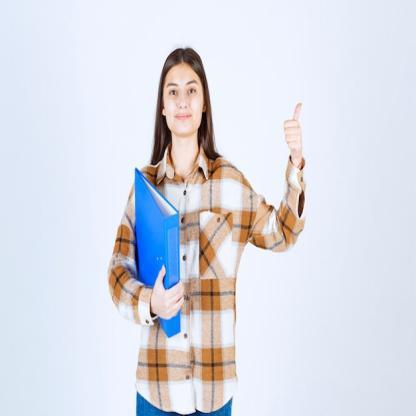thumb_up: (282, 99, 308, 162)
